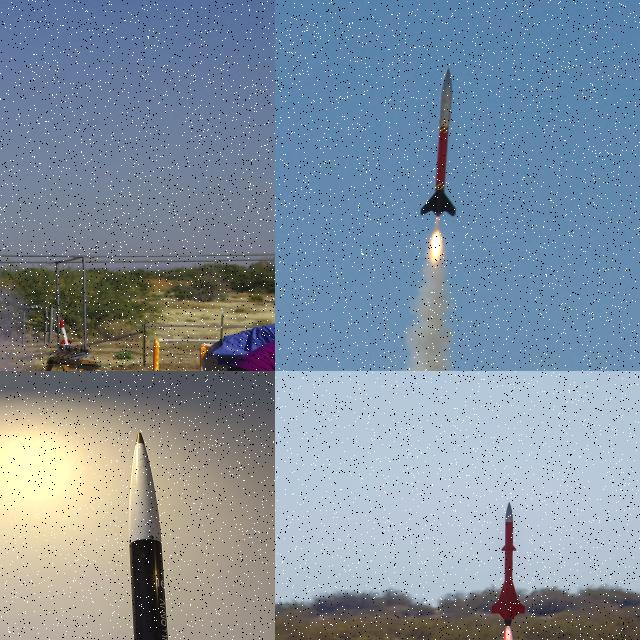Rocket: (129, 432, 169, 640), (420, 66, 457, 218), (492, 502, 526, 626), (59, 317, 73, 348)
